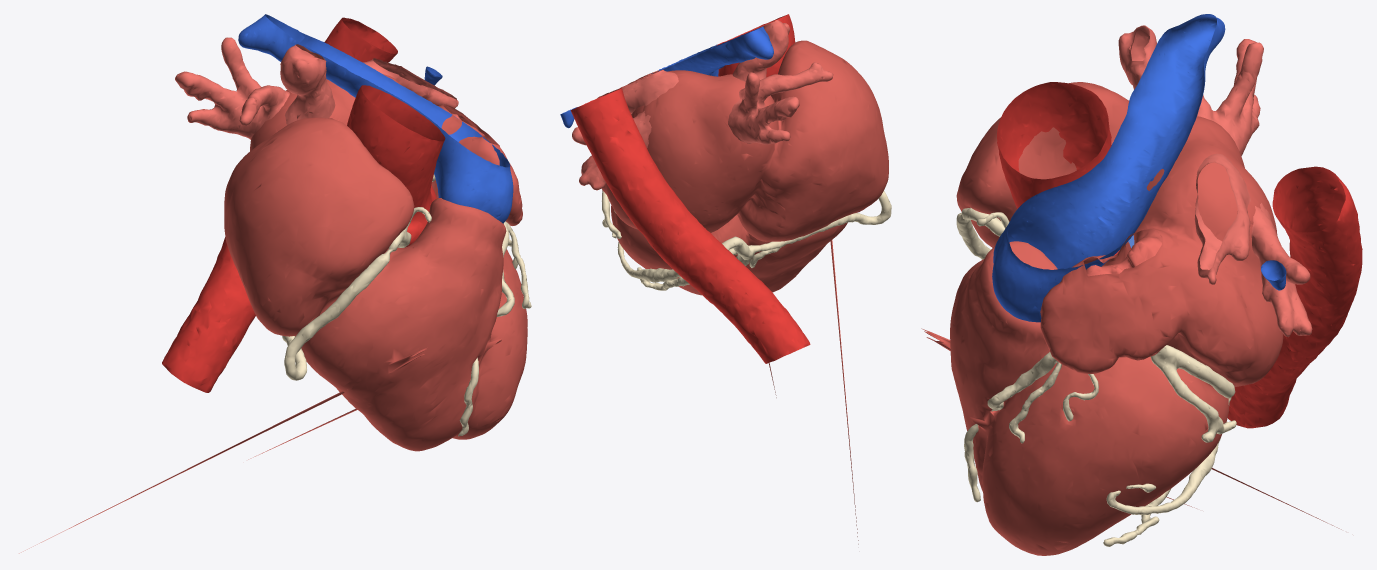
File: heart_13.glb
The picture shows the model from 3 angles, left to right: view 1: azimuth 30°, elevation 25°; view 2: azimuth 150°, elevation 25°; view 3: azimuth 270°, elevation 25°; orthographic projection. The views are drawn at different scales.
Parts seen in each view (by area): view 1: HeartWall, Aorta, PulmonaryArtery, PulmonaryVeins, CoronaryArteries; view 2: HeartWall, Aorta, PulmonaryVeins, CoronaryArteries, PulmonaryArtery; view 3: HeartWall, PulmonaryArtery, Aorta, PulmonaryVeins, CoronaryArteries, LeftAtrium.
Boxes of the visible parts, box(x1,y1,x2,y2) form: HeartWall: box(19, 74, 527, 553); Aorta: box(162, 17, 445, 392); PulmonaryArtery: box(238, 14, 513, 223); PulmonaryVeins: box(175, 37, 458, 139); CoronaryArteries: box(282, 174, 531, 436); HeartWall: box(602, 40, 888, 544); Aorta: box(570, 14, 810, 363); PulmonaryVeins: box(572, 20, 833, 190); CoronaryArteries: box(601, 190, 891, 290); PulmonaryArtery: box(560, 26, 773, 128); HeartWall: box(921, 82, 1341, 555); PulmonaryArtery: box(992, 14, 1286, 322); Aorta: box(997, 82, 1362, 428); PulmonaryVeins: box(1118, 25, 1312, 337); CoronaryArteries: box(956, 207, 1236, 546); LeftAtrium: box(1086, 229, 1162, 276).
Size of the model in its own units: 0.1448 by 0.1902 by 0.121.
